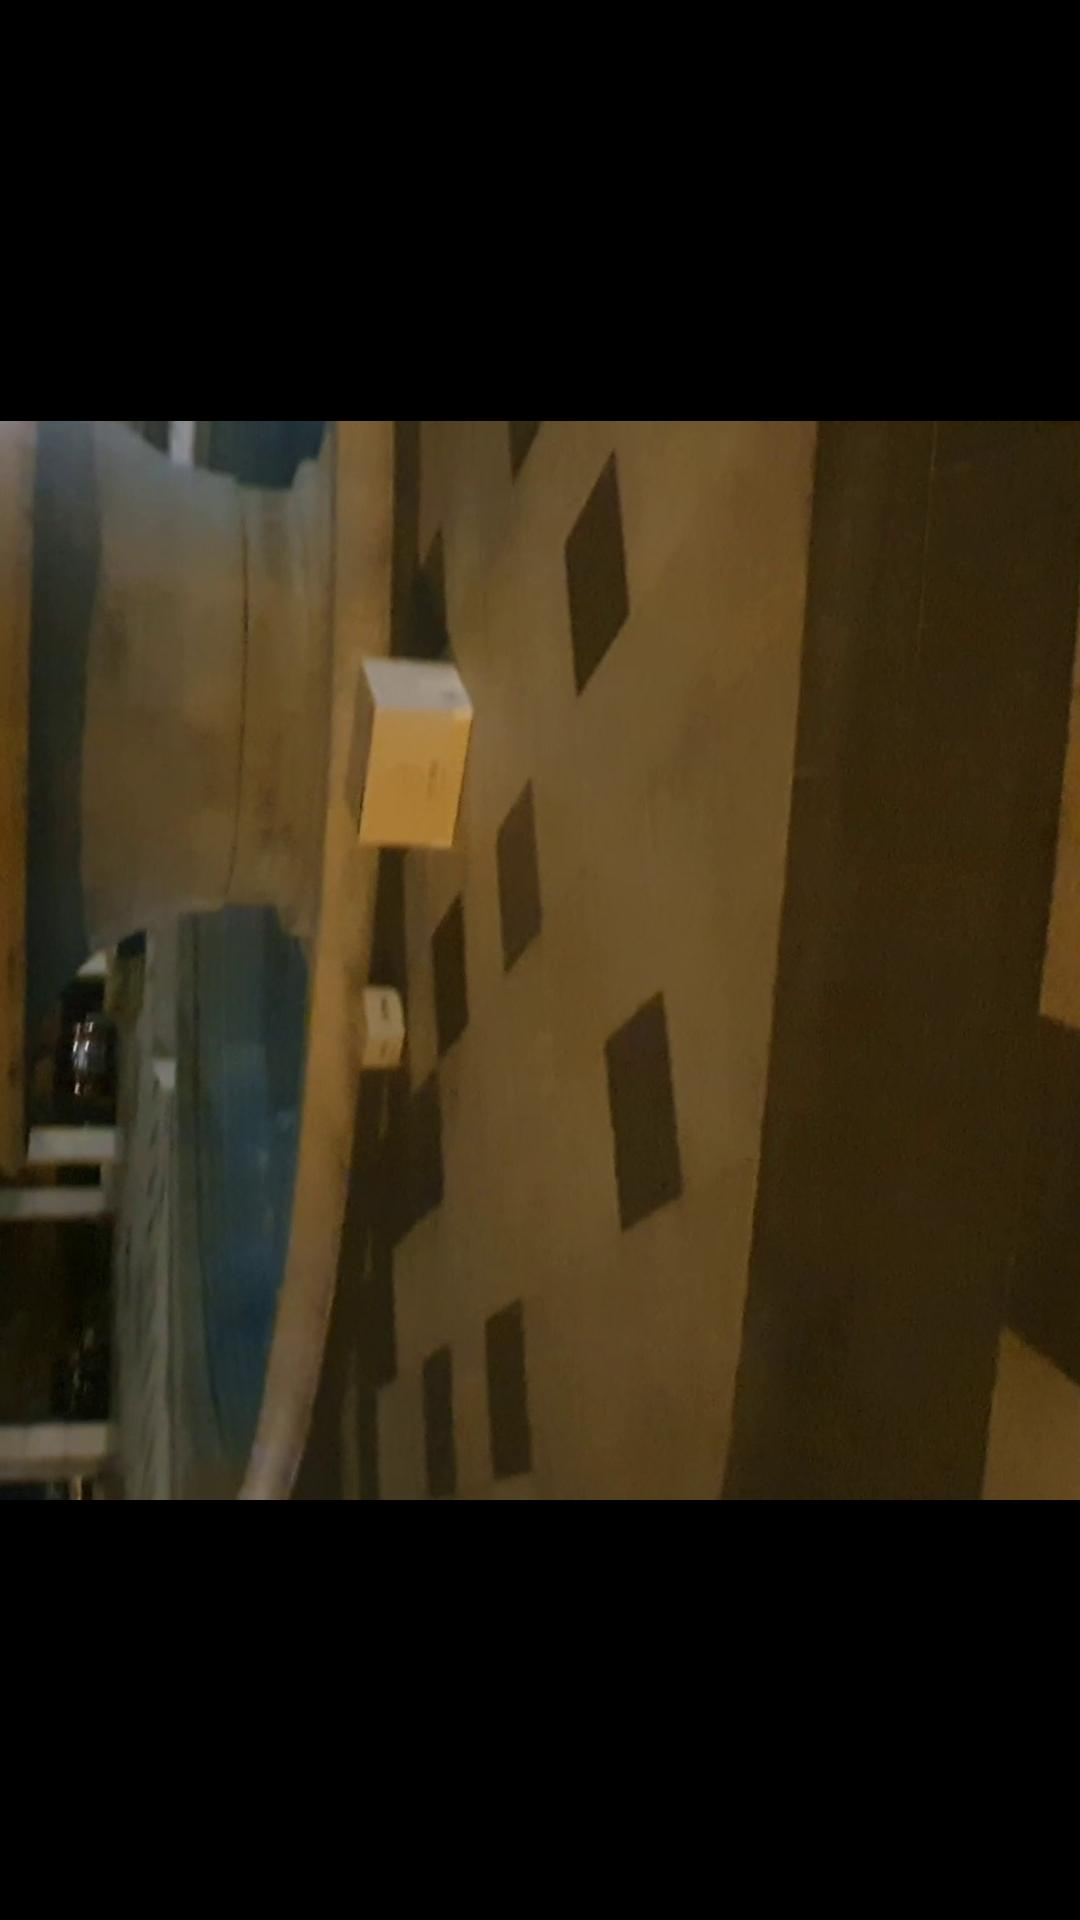Box: (338, 653, 480, 857), (338, 978, 410, 1072)
